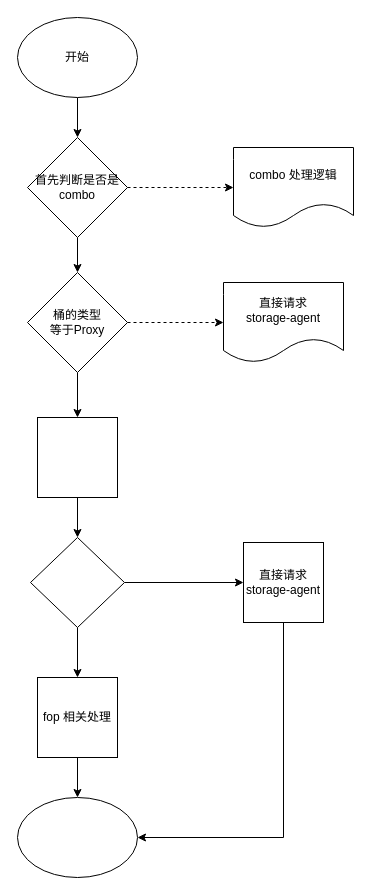
Image size: 371x895. Some labels were removed from this diagram. Here are the shapes that lost their labels. From the top down, the centre of each, then its label:
the point at 77,457: 把request 转换成foptask
the point at 77,582: oss image process
the point at 77,837: 结束
